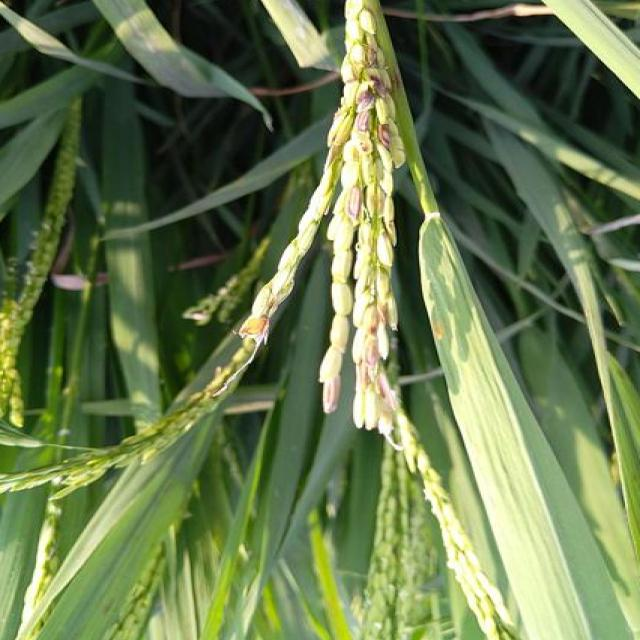Panicle Blight: (335, 33, 406, 166), (353, 297, 398, 427), (334, 186, 365, 234), (237, 309, 269, 347), (323, 371, 340, 412)
